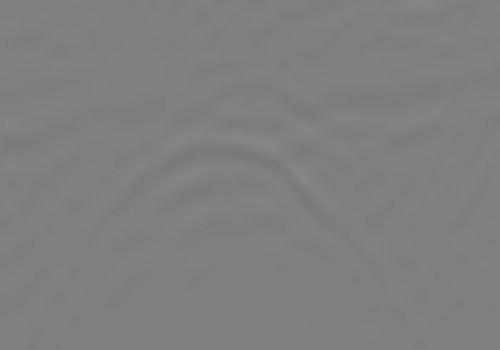hyperbola: (52, 124, 378, 305)
